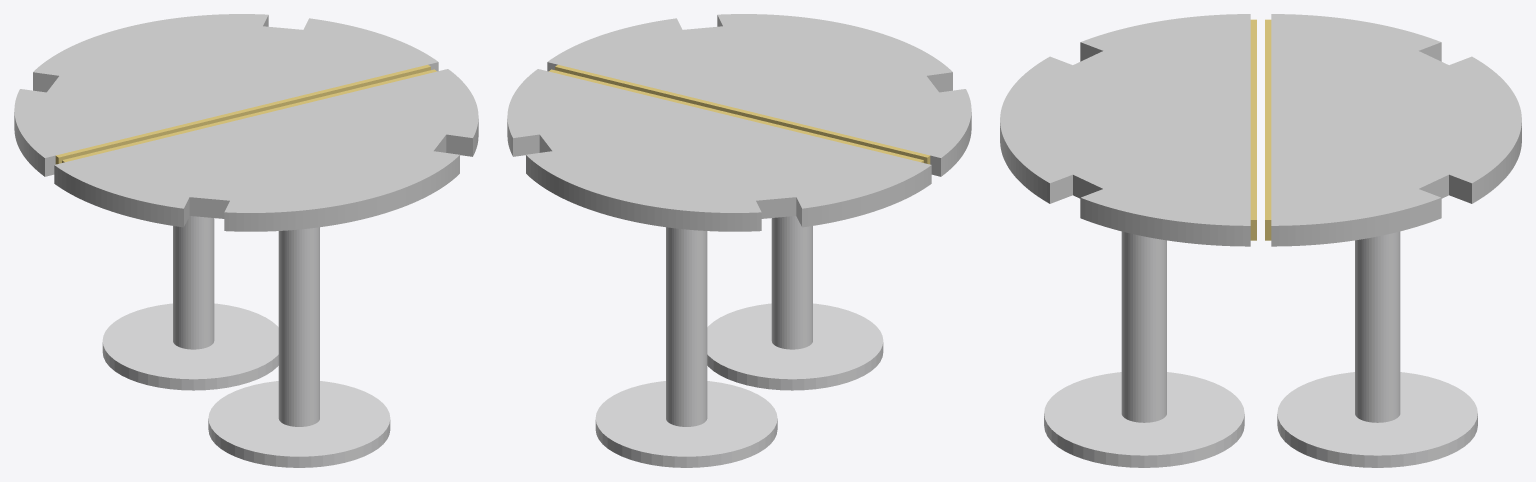
Rendered from Table.glb.
The picture shows the model from 3 angles, left to right: view 1: azimuth 30°, elevation 25°; view 2: azimuth 150°, elevation 25°; view 3: azimuth 270°, elevation 25°; orthographic projection. The views are drawn at different scales.
Visible parts, largest first — view 1: Table; view 2: Table; view 3: Table.
Boxes of the visible parts, x1,y1,x2,y2 form: Table: (14,14,478,467); Table: (507,14,971,467); Table: (1000,14,1521,467).
Size of the model in its own units: 1.1 by 0.74 by 1.14.
